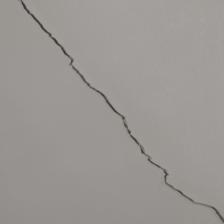High: (18, 1, 223, 224)
